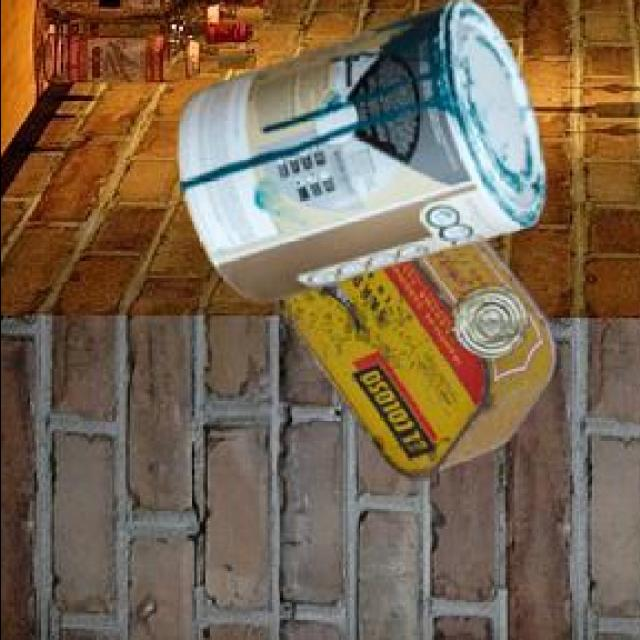logam: (181, 0, 548, 299), (281, 237, 559, 477), (454, 283, 528, 352)
